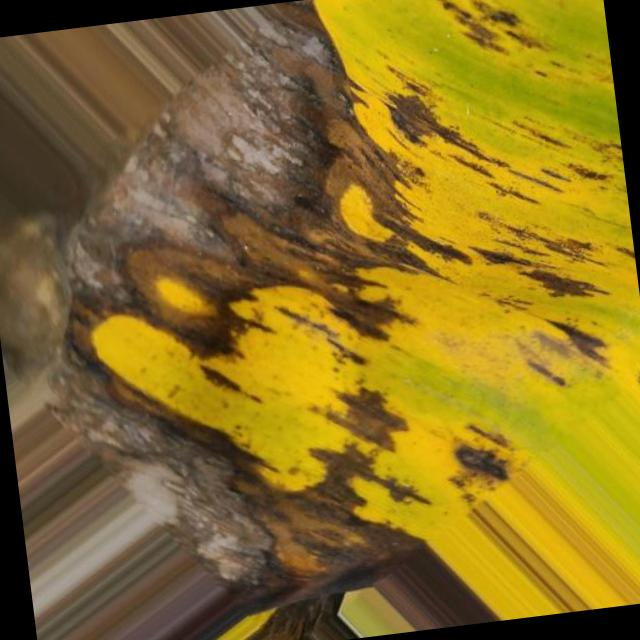Banana_Black_Sigatoka: (11, 218, 524, 622), (143, 0, 634, 310)
